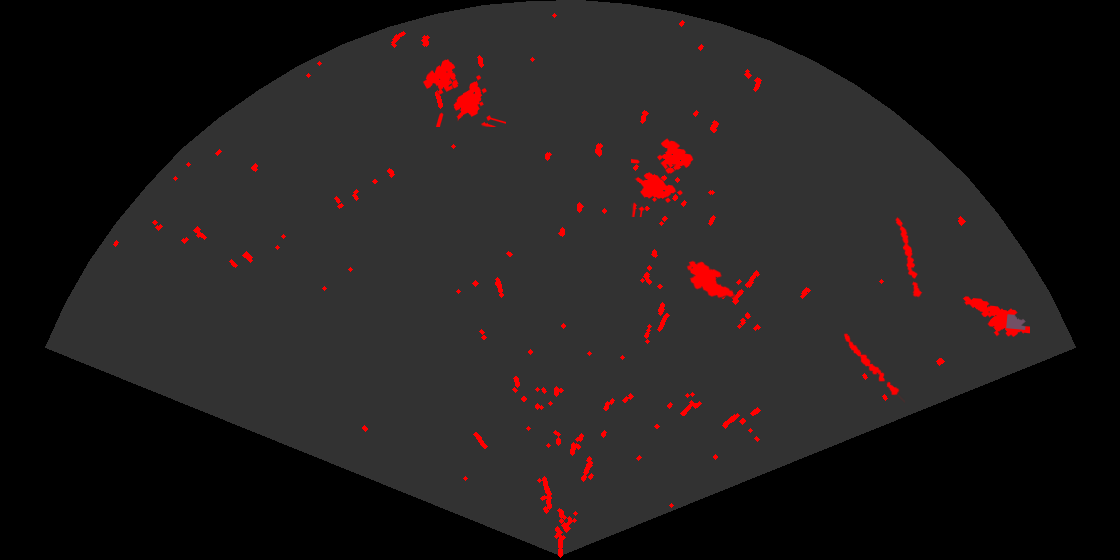AUV: (685, 259, 736, 300)
cage: (421, 58, 506, 127), (631, 137, 695, 217)
chain: (842, 332, 905, 404), (894, 215, 924, 300)
frogman: (961, 295, 1030, 338)
